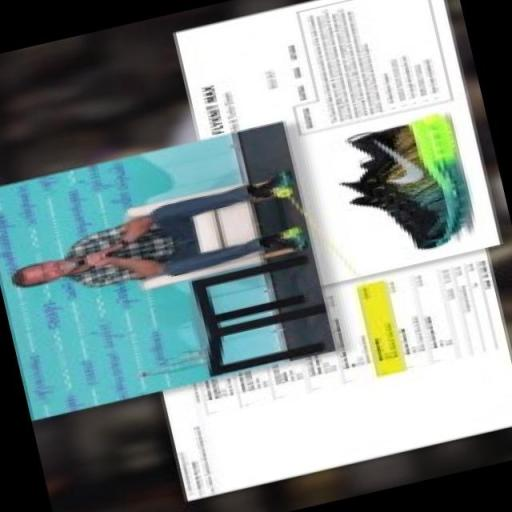Nike: (363, 124, 428, 194)
